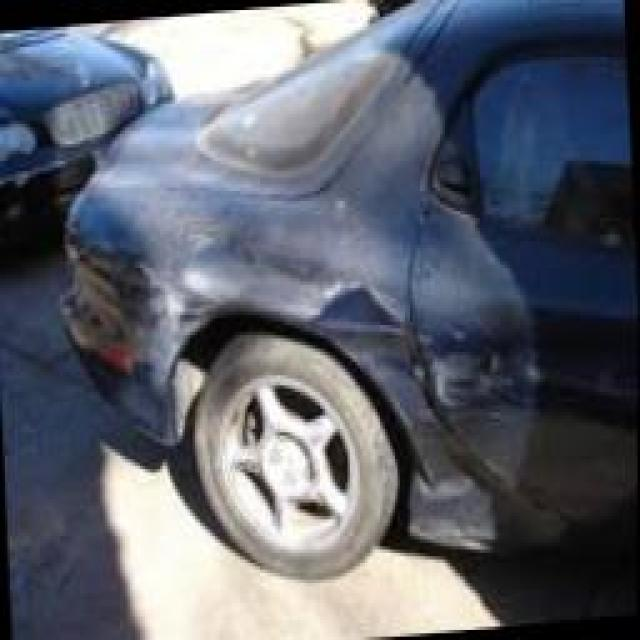Door: (410, 247, 587, 526)
Fender: (140, 135, 518, 540)
Light: (54, 244, 132, 369)
